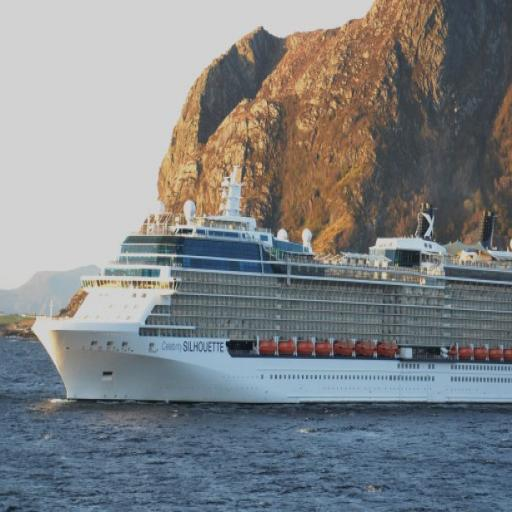cruises: (27, 164, 512, 416)
